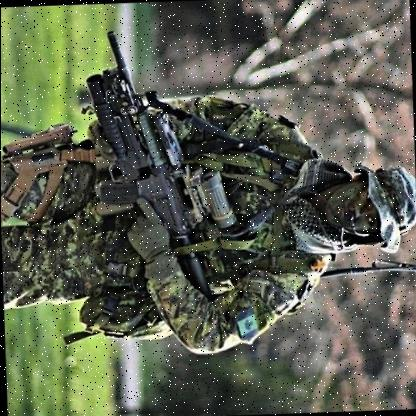rifle: (78, 39, 210, 283)
